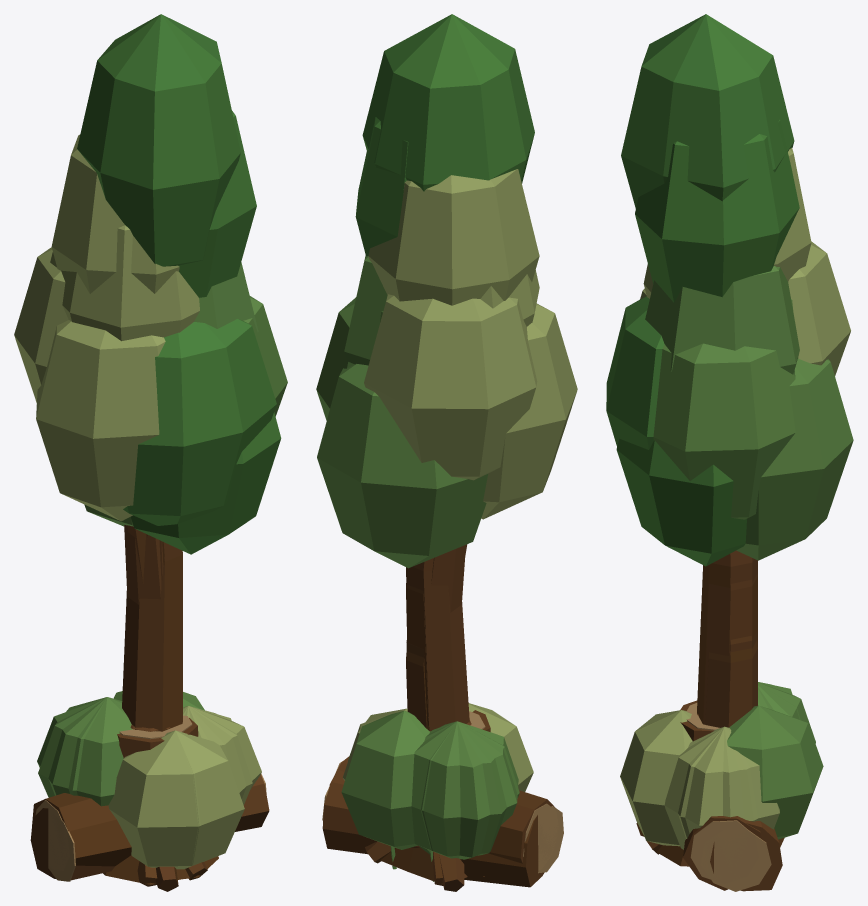
The model's file is meadow.glb.
3 renders of one model, left to right at view 1: azimuth 30°, elevation 25°; view 2: azimuth 150°, elevation 25°; view 3: azimuth 270°, elevation 25°, orthographic.
Visible parts, largest first — view 1: meadow_tree_tall_a, meadow_tree_round_a, meadow_tree_round_b, meadow_bush_b, meadow_tree_tall_b, meadow_fallen_log_a, meadow_bush_a, meadow_fallen_log_b, meadow_stump_b, meadow_stump_a; view 2: meadow_tree_tall_a, meadow_tree_round_b, meadow_tree_round_a, meadow_bush_b, meadow_bush_a, meadow_tree_tall_b, meadow_fallen_log_b, meadow_fallen_log_a, meadow_stump_b, meadow_stump_a; view 3: meadow_tree_tall_a, meadow_tree_round_a, meadow_tree_round_b, meadow_tree_tall_b, meadow_bush_b, meadow_bush_a, meadow_fallen_log_a, meadow_fallen_log_b, meadow_stump_b.
Part boxes in pixels (x1,y1,x2,y2): meadow_tree_tall_a: [51, 14, 258, 886]; meadow_tree_round_a: [14, 247, 287, 604]; meadow_tree_round_b: [36, 320, 281, 880]; meadow_bush_b: [37, 691, 261, 869]; meadow_tree_tall_b: [50, 111, 256, 682]; meadow_fallen_log_a: [32, 773, 269, 876]; meadow_bush_a: [38, 697, 252, 868]; meadow_fallen_log_b: [30, 808, 114, 881]; meadow_stump_b: [117, 715, 218, 878]; meadow_stump_a: [103, 755, 182, 891]; meadow_tree_tall_a: [344, 14, 539, 885]; meadow_tree_round_b: [317, 303, 577, 877]; meadow_tree_round_a: [316, 294, 537, 658]; meadow_bush_b: [341, 703, 533, 859]; meadow_bush_a: [348, 709, 519, 858]; meadow_tree_tall_b: [355, 117, 539, 730]; meadow_fallen_log_b: [322, 770, 563, 887]; meadow_fallen_log_a: [329, 756, 558, 876]; meadow_stump_b: [380, 710, 490, 884]; meadow_stump_a: [439, 854, 464, 891]; meadow_tree_tall_a: [621, 14, 811, 723]; meadow_tree_round_a: [606, 241, 850, 652]; meadow_tree_round_b: [616, 288, 853, 854]; meadow_tree_tall_b: [635, 120, 799, 724]; meadow_bush_b: [621, 682, 823, 849]; meadow_bush_a: [620, 682, 815, 838]; meadow_fallen_log_a: [683, 816, 761, 890]; meadow_fallen_log_b: [700, 820, 782, 891]; meadow_stump_b: [652, 700, 784, 866].
Bounding box in the file's own units: 0.8683 × 2.98 × 0.8002.
